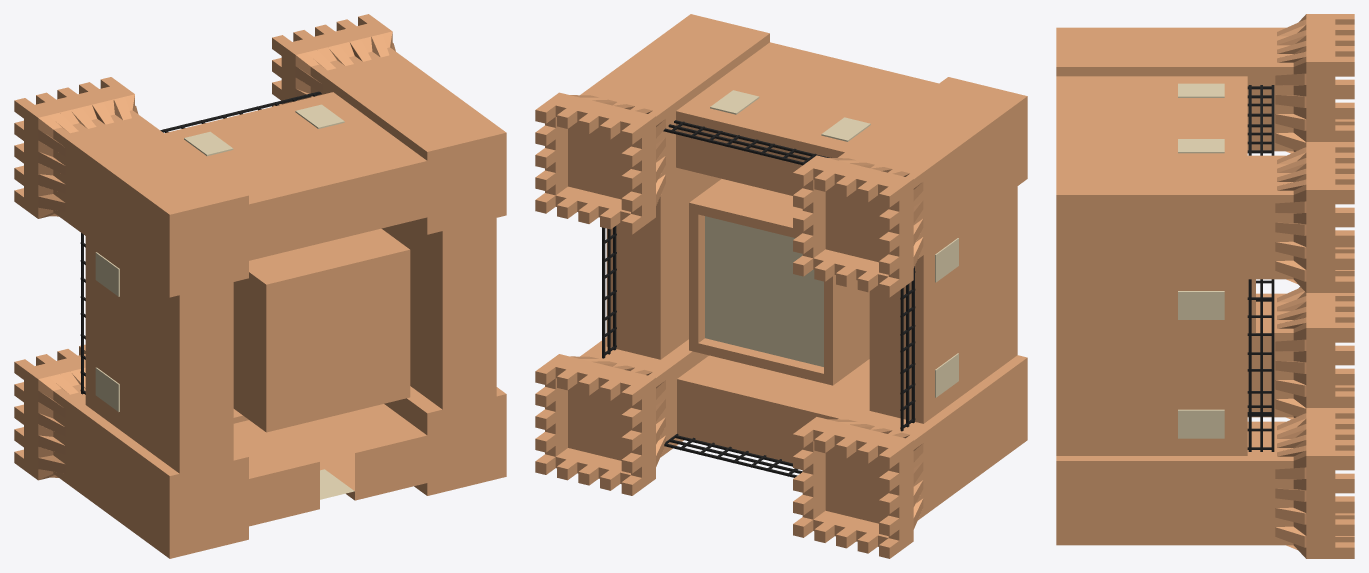
The model's file is Fortress.fbx.
3 renders of one model, left to right at view 1: azimuth 30°, elevation 25°; view 2: azimuth 150°, elevation 25°; view 3: azimuth 270°, elevation 25°, orthographic.
Parts seen in each view (by area): view 1: imagetostl_mesh40, imagetostl_mesh61, imagetostl_mesh66, imagetostl_mesh52, imagetostl_mesh41, imagetostl_mesh42, imagetostl_mesh67, imagetostl_mesh9, imagetostl_mesh39, imagetostl_mesh50, imagetostl_mesh46, imagetostl_mesh63 (+1 smaller); view 2: imagetostl_mesh40, imagetostl_mesh41, imagetostl_mesh61, imagetostl_mesh42, imagetostl_mesh52, imagetostl_mesh66, imagetostl_mesh39, imagetostl_mesh67, imagetostl_mesh9, imagetostl_mesh46, imagetostl_mesh50, imagetostl_mesh54 (+1 smaller); view 3: imagetostl_mesh42, imagetostl_mesh39, imagetostl_mesh9, imagetostl_mesh40, imagetostl_mesh66, imagetostl_mesh41, imagetostl_mesh62, imagetostl_mesh51, imagetostl_mesh54, imagetostl_mesh63, imagetostl_mesh61, imagetostl_mesh38 (+2 smaller).
Part boxes in pixels (left/top/right/bottom): imagetostl_mesh40: left=14, top=77, right=248, bottom=297; imagetostl_mesh61: left=233, top=228, right=410, bottom=432; imagetostl_mesh66: left=164, top=92, right=427, bottom=261; imagetostl_mesh52: left=85, top=236, right=233, bottom=475; imagetostl_mesh41: left=14, top=344, right=248, bottom=558; imagetostl_mesh42: left=272, top=14, right=506, bottom=234; imagetostl_mesh67: left=233, top=404, right=427, bottom=527; imagetostl_mesh9: left=381, top=217, right=496, bottom=412; imagetostl_mesh39: left=384, top=386, right=506, bottom=495; imagetostl_mesh50: left=95, top=252, right=119, bottom=296; imagetostl_mesh46: left=95, top=367, right=119, bottom=411; imagetostl_mesh63: left=295, top=104, right=344, bottom=128; imagetostl_mesh40: left=793, top=77, right=1027, bottom=297; imagetostl_mesh41: left=793, top=355, right=1027, bottom=558; imagetostl_mesh61: left=689, top=179, right=869, bottom=385; imagetostl_mesh42: left=535, top=14, right=769, bottom=234; imagetostl_mesh52: left=869, top=186, right=1017, bottom=423; imagetostl_mesh66: left=676, top=42, right=938, bottom=195; imagetostl_mesh39: left=535, top=337, right=708, bottom=495; imagetostl_mesh67: left=677, top=355, right=869, bottom=463; imagetostl_mesh9: left=606, top=172, right=721, bottom=359; imagetostl_mesh46: left=935, top=353, right=958, bottom=397; imagetostl_mesh50: left=935, top=238, right=958, bottom=282; imagetostl_mesh54: left=821, top=117, right=870, bottom=141; imagetostl_mesh42: left=1056, top=142, right=1354, bottom=292; imagetostl_mesh39: left=1056, top=408, right=1354, bottom=558; imagetostl_mesh9: left=1056, top=279, right=1247, bottom=455; imagetostl_mesh40: left=1056, top=14, right=1354, bottom=153; imagetostl_mesh66: left=1056, top=76, right=1247, bottom=155; imagetostl_mesh41: left=1247, top=286, right=1354, bottom=419; imagetostl_mesh62: left=1178, top=409, right=1224, bottom=438; imagetostl_mesh51: left=1178, top=291, right=1224, bottom=319; imagetostl_mesh54: left=1178, top=83, right=1224, bottom=97; imagetostl_mesh63: left=1178, top=139, right=1224, bottom=153; imagetostl_mesh61: left=1247, top=279, right=1255, bottom=390; imagetostl_mesh38: left=1248, top=279, right=1251, bottom=451.
Size of the model in its own units: 5.27e+07 by 5.15e+07 by 3.78e+07.
